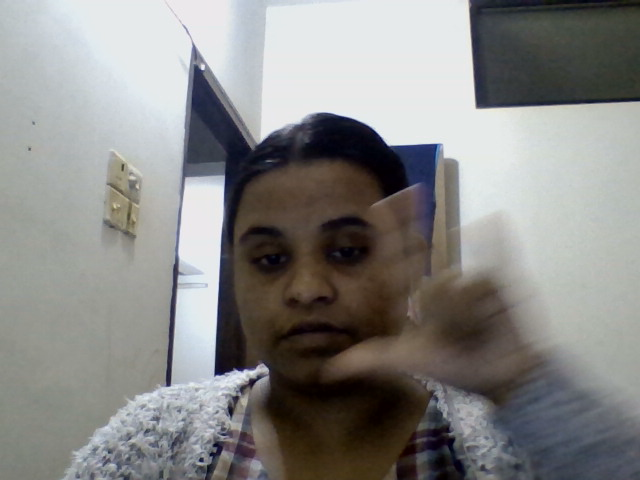I Love You: (290, 154, 586, 437)
